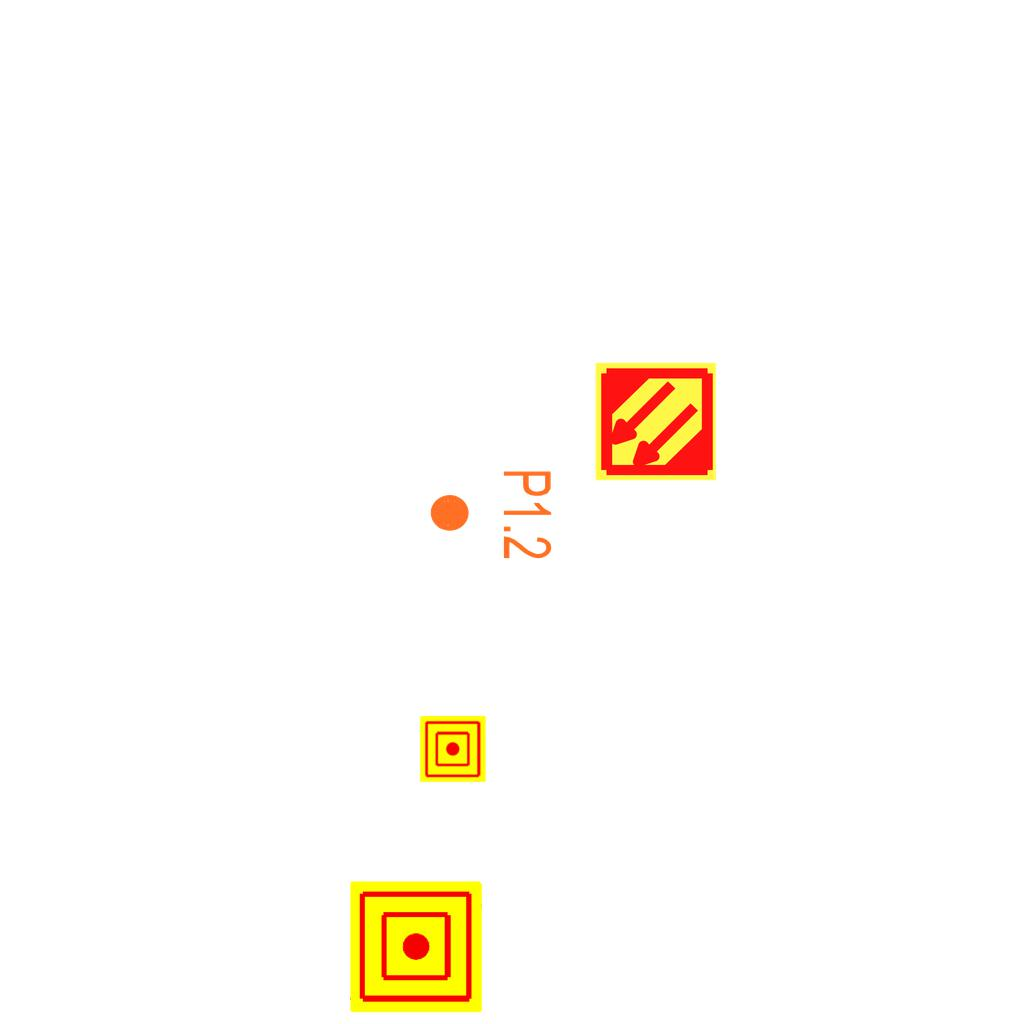ASR_Ansaugrauchmelder: (593, 359, 718, 484)
Downlight_LED_Einbauleuchten_Flur: (427, 468, 555, 561)
NAM-Nichtautomatischer_Melder: (350, 881, 482, 1013), (420, 716, 486, 782)
